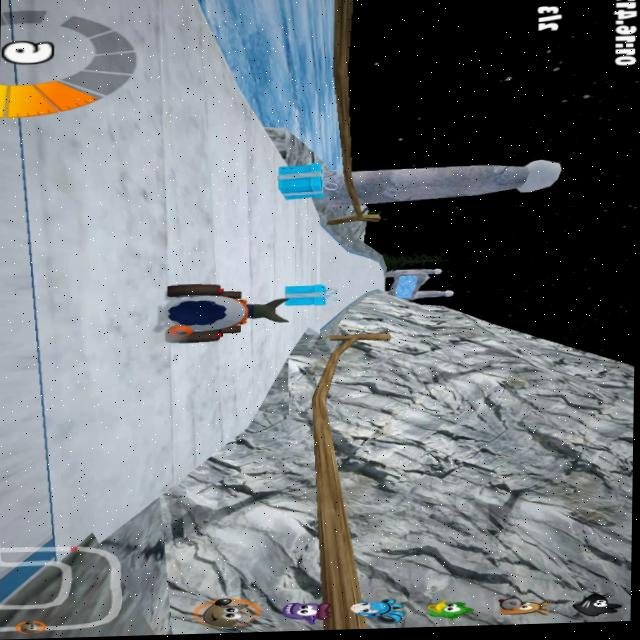bonus: (272, 160, 333, 199), (288, 281, 330, 310)
track: (0, 0, 183, 494), (200, 144, 278, 282), (0, 490, 107, 559), (170, 344, 255, 429), (185, 56, 257, 144), (266, 200, 322, 280), (250, 320, 292, 363), (332, 248, 361, 301), (358, 266, 394, 295), (292, 311, 322, 328)
